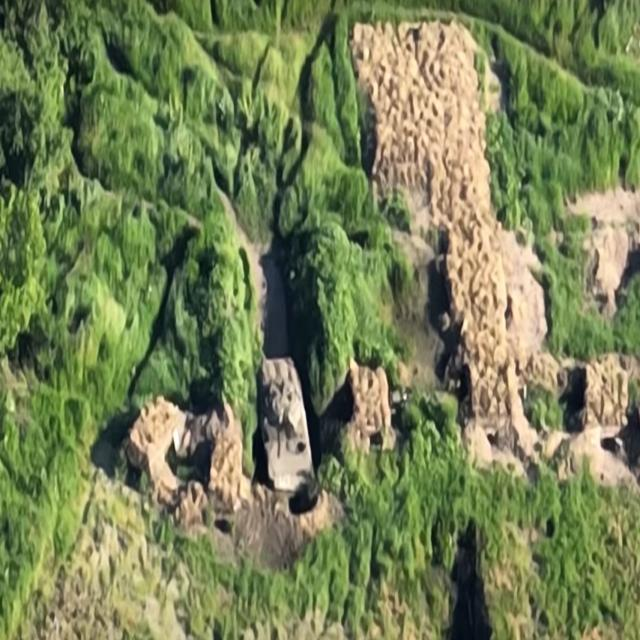AIFV: (257, 341, 320, 501)
